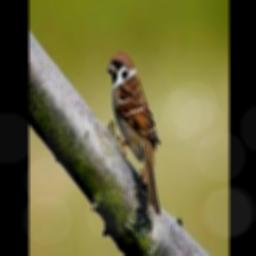Sparrow: (107, 53, 160, 215)
